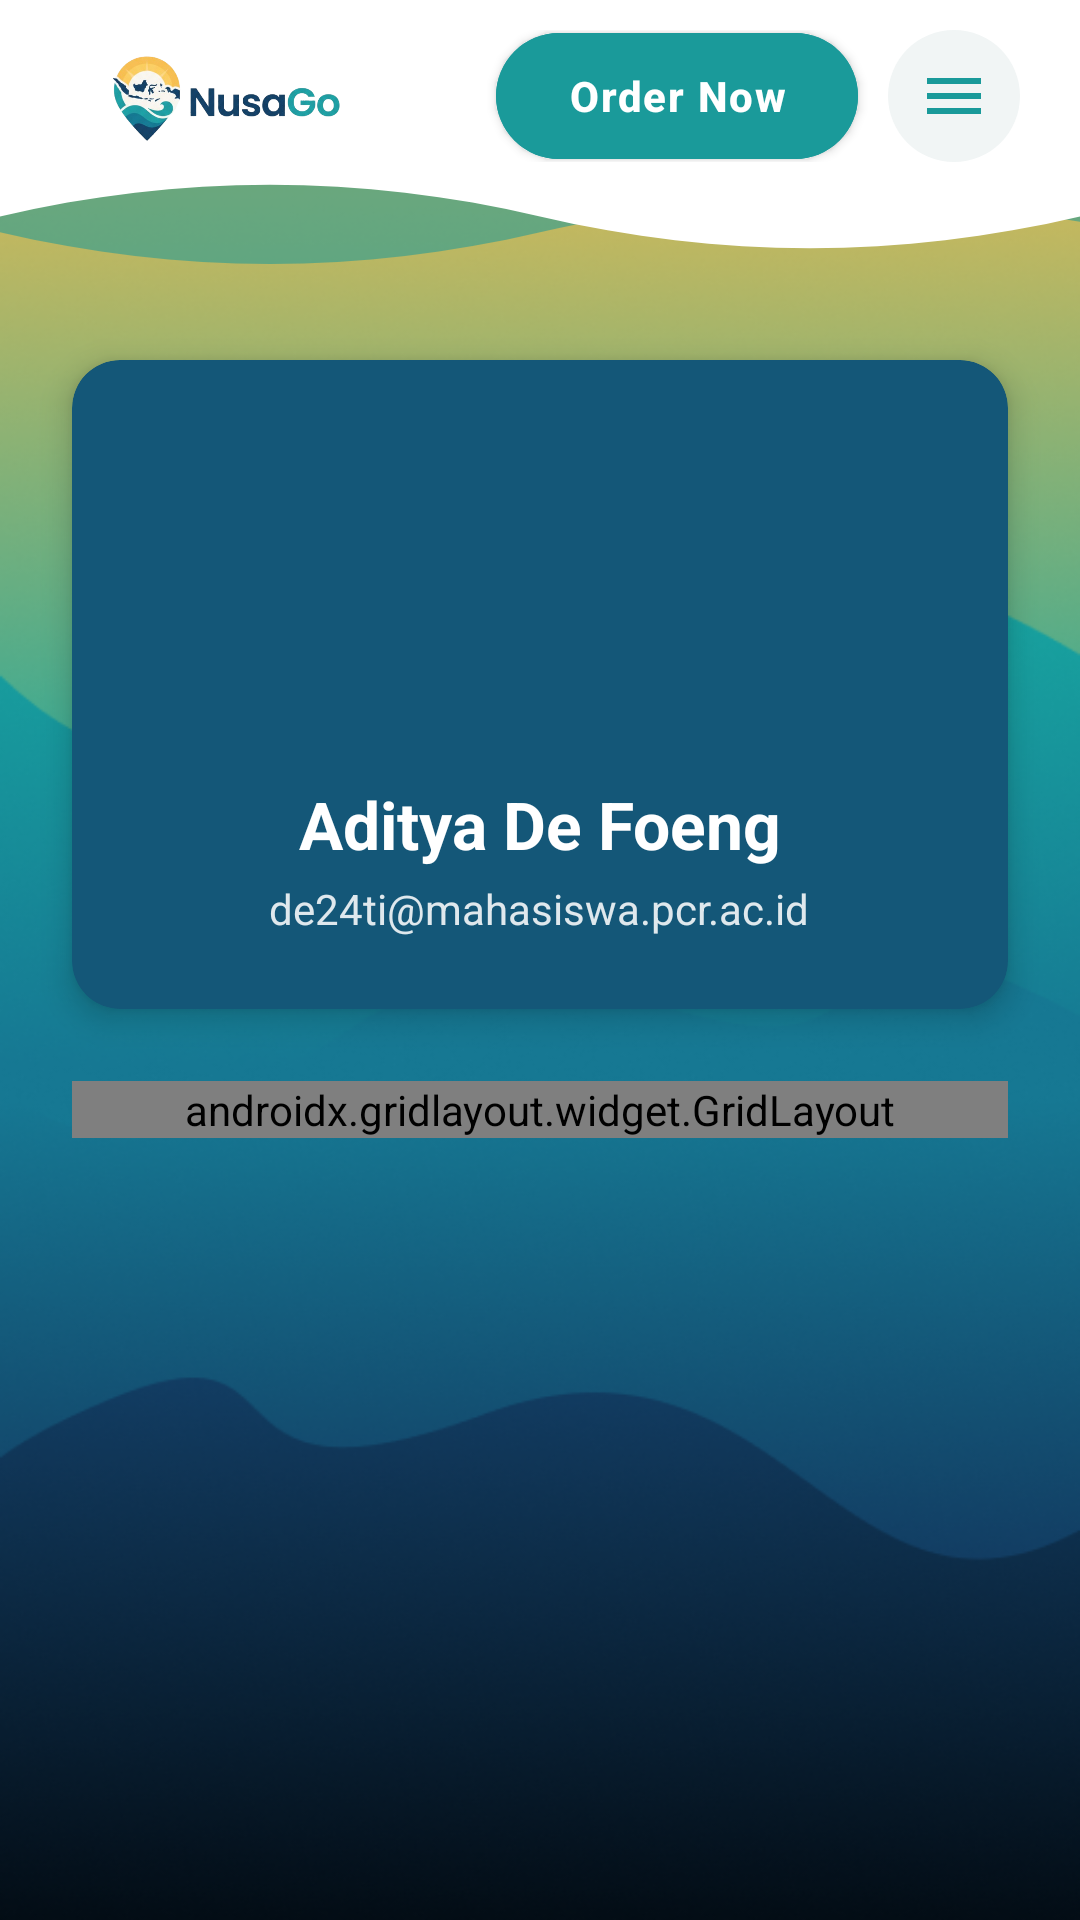

Icons on this 1080 x 1920 Android screen, each with the point to tap as (x,y):
Open menu: (954,96)
